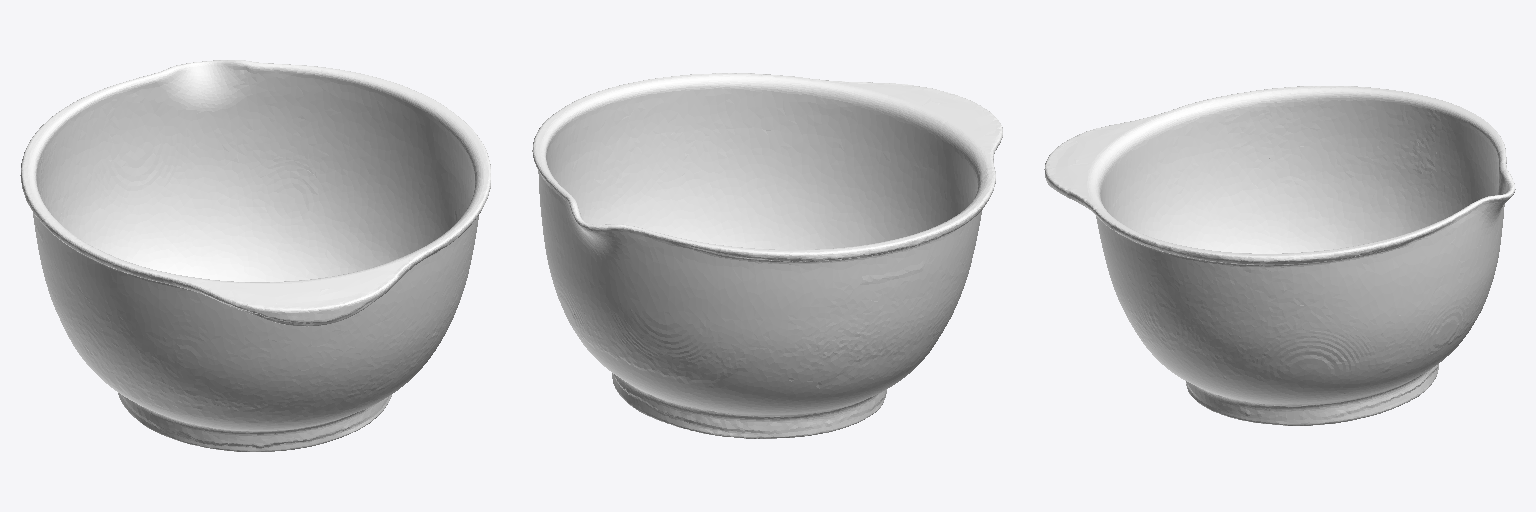
robot.urdf — model.urdf:
<robot name="model.urdf">
    <link name="baseLink">
        <contact>
            <lateral_friction value="0.5"/>
            <rolling_friction value="1"/>
            <spinning_friction value="1"/>
            <contact_cfm value="0.0"/>
            <contact_erp value="1.0"/>
        </contact>
        <inertial>
            <origin rpy="-0.06 3.11 0" xyz="0. 0.0 0.03"/>
            <mass value="1.2"/>
            <inertia ixx="1e-3" ixy="0" ixz="0" iyy="1e-3" iyz="0" izz="1e-3"/>
        </inertial>
        <visual>
            <origin xyz="0.0 0.0 0.0" rpy="0 0 -1.7" />
            <geometry>
                <mesh filename="nontextured.stl" scale="1 1 1"/>
            </geometry>
            <material name="white">
                <color rgba="1 1 1 1"/>
            </material>
        </visual>
        <collision>
            <origin xyz="0.0 0.0 0.0" rpy="0 0 -1.7" />
            <geometry>
                <mesh filename="nontextured.stl" scale="1 1 1"/>
            </geometry>
        </collision>
    </link>
</robot>

--- What the picture shows (computed from the rendered views, not written in the file) ---
The picture shows the robot from 3 angles, left to right: view 1: azimuth 30°, elevation 25°; view 2: azimuth 150°, elevation 25°; view 3: azimuth 270°, elevation 25°; orthographic projection.
Model model.urdf with 1 links and 0 joints (none), rooted at baseLink, posed every joint at zero.
Visible links, largest first — view 1: baseLink; view 2: baseLink; view 3: baseLink.
Boxes of the visible links, box(x1,y1,x2,y2) form: baseLink: box(20, 60, 490, 451); baseLink: box(532, 73, 1002, 438); baseLink: box(1044, 86, 1515, 425).
Bounding box of the posed robot: 0.2577 × 0.2816 × 0.1471 m (x, y, z).
Meshes: 1 distinct files referenced, 1 mesh visuals loaded (1 binary STL).